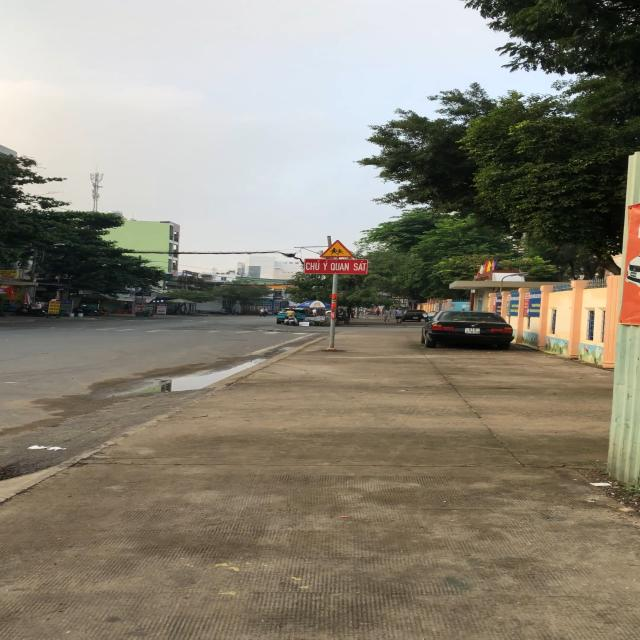Bien bao tre em: (319, 239, 355, 258)
